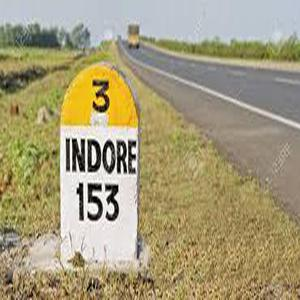kmstone: (58, 55, 143, 277)
